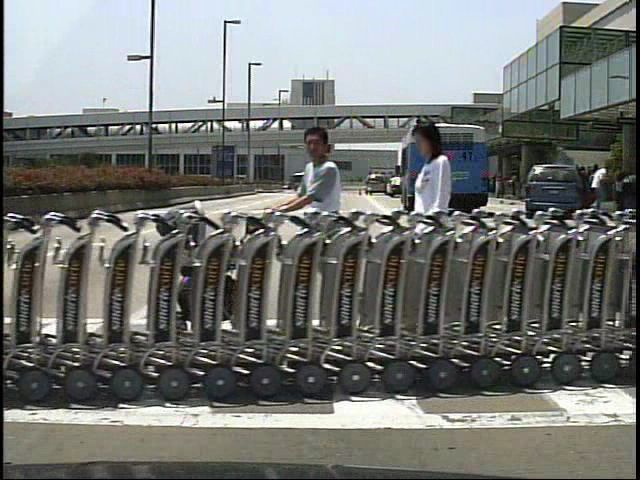person: (271, 119, 365, 358), (408, 116, 473, 337), (592, 164, 612, 213), (584, 163, 602, 214)
